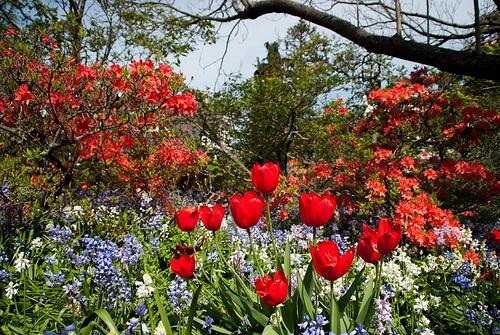tulip: (356, 217, 401, 262), (309, 239, 355, 279), (254, 268, 291, 305), (299, 191, 337, 226), (230, 191, 265, 227), (250, 160, 282, 192), (198, 203, 226, 231), (169, 255, 197, 279), (174, 206, 199, 232)
